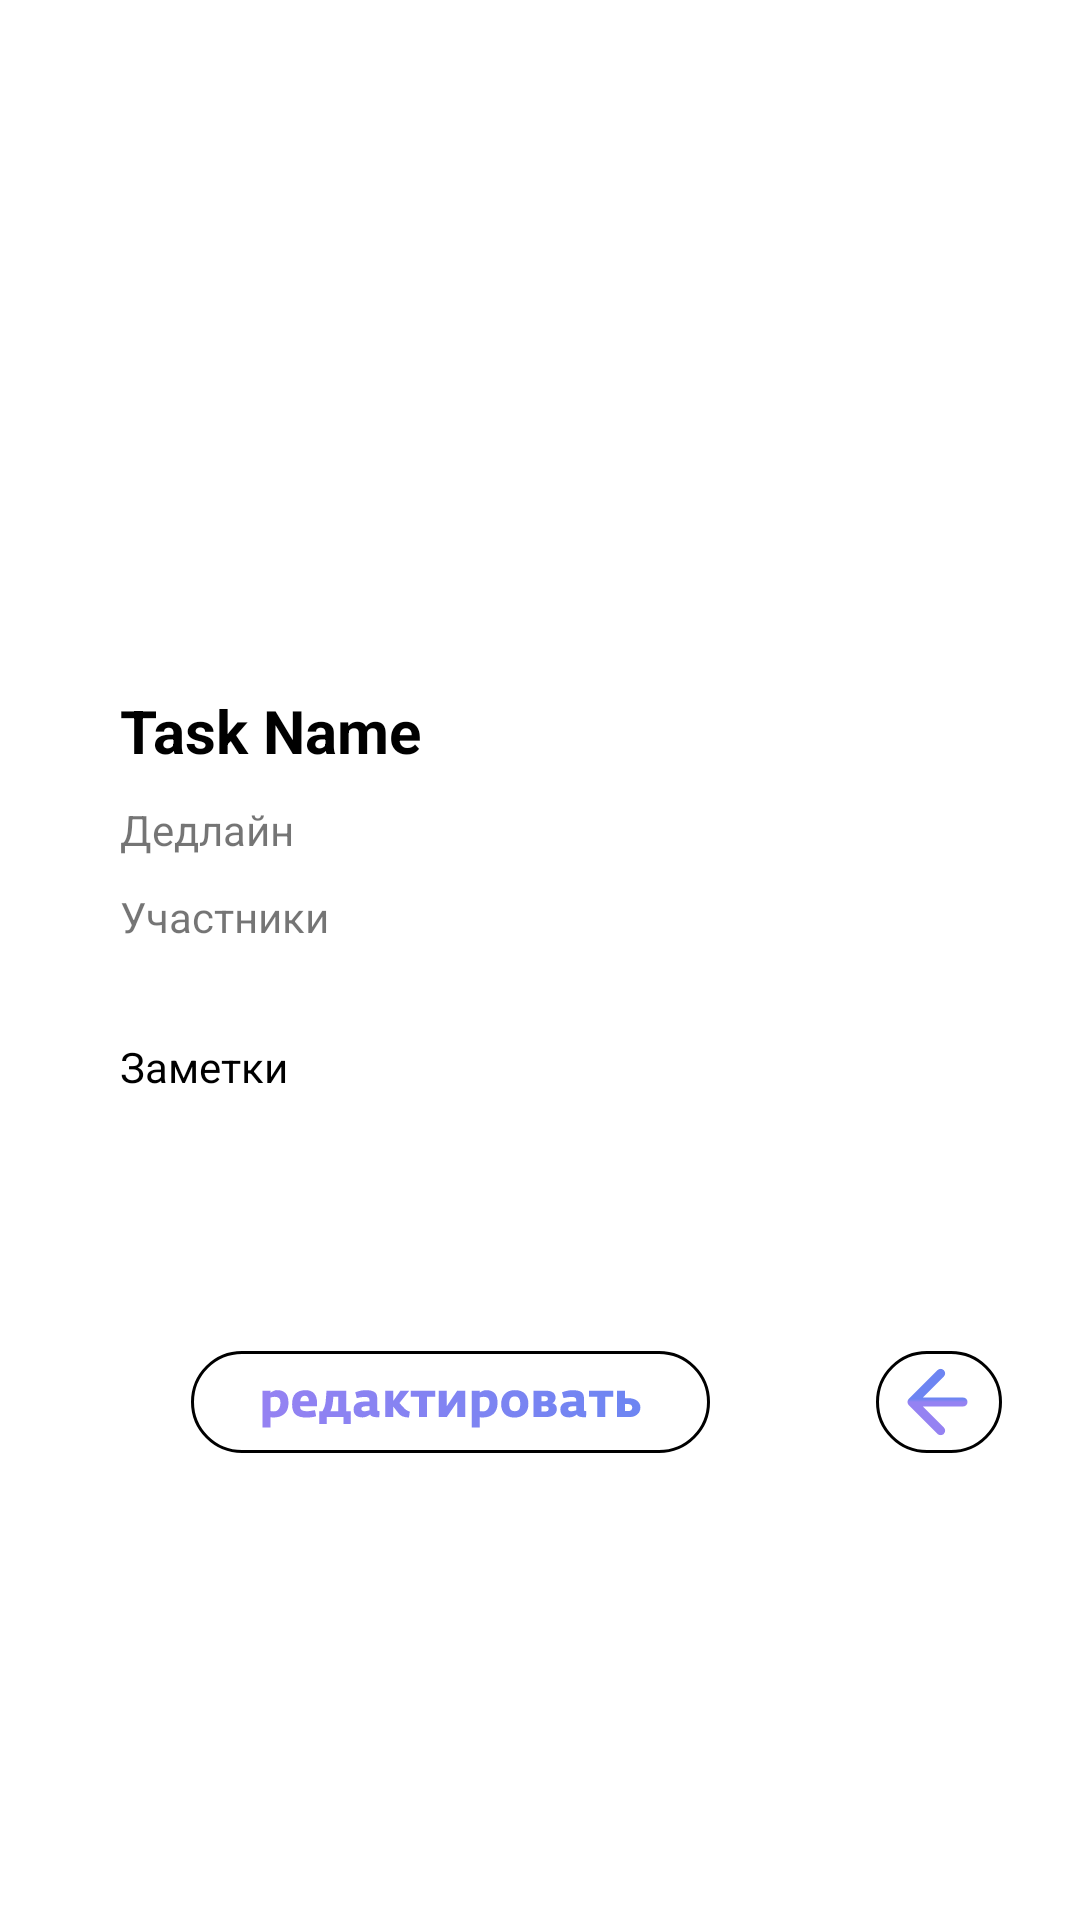

Point at icon controls on the screen. Image size 1080 x 1920, points as (x=x, y=y).
return: (x=939, y=1402)
